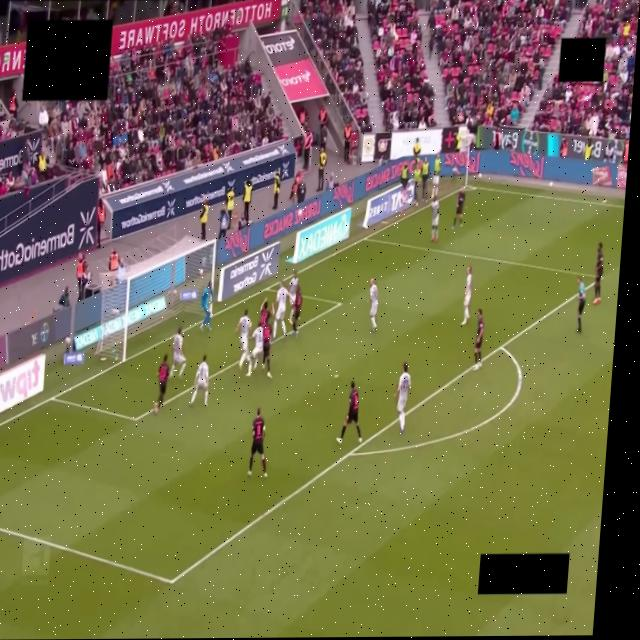player: (336, 381, 361, 444), (247, 409, 266, 477), (394, 363, 410, 432), (153, 355, 168, 414), (190, 356, 208, 405), (235, 310, 250, 368), (472, 308, 486, 370), (246, 323, 262, 376), (273, 282, 287, 339), (170, 327, 185, 376), (428, 194, 441, 242), (593, 243, 603, 304), (200, 281, 212, 330), (461, 267, 471, 324), (291, 286, 302, 336), (452, 186, 464, 228), (288, 272, 298, 322), (262, 323, 271, 378), (368, 278, 377, 332), (260, 300, 270, 326)
referee: (573, 277, 588, 334)
